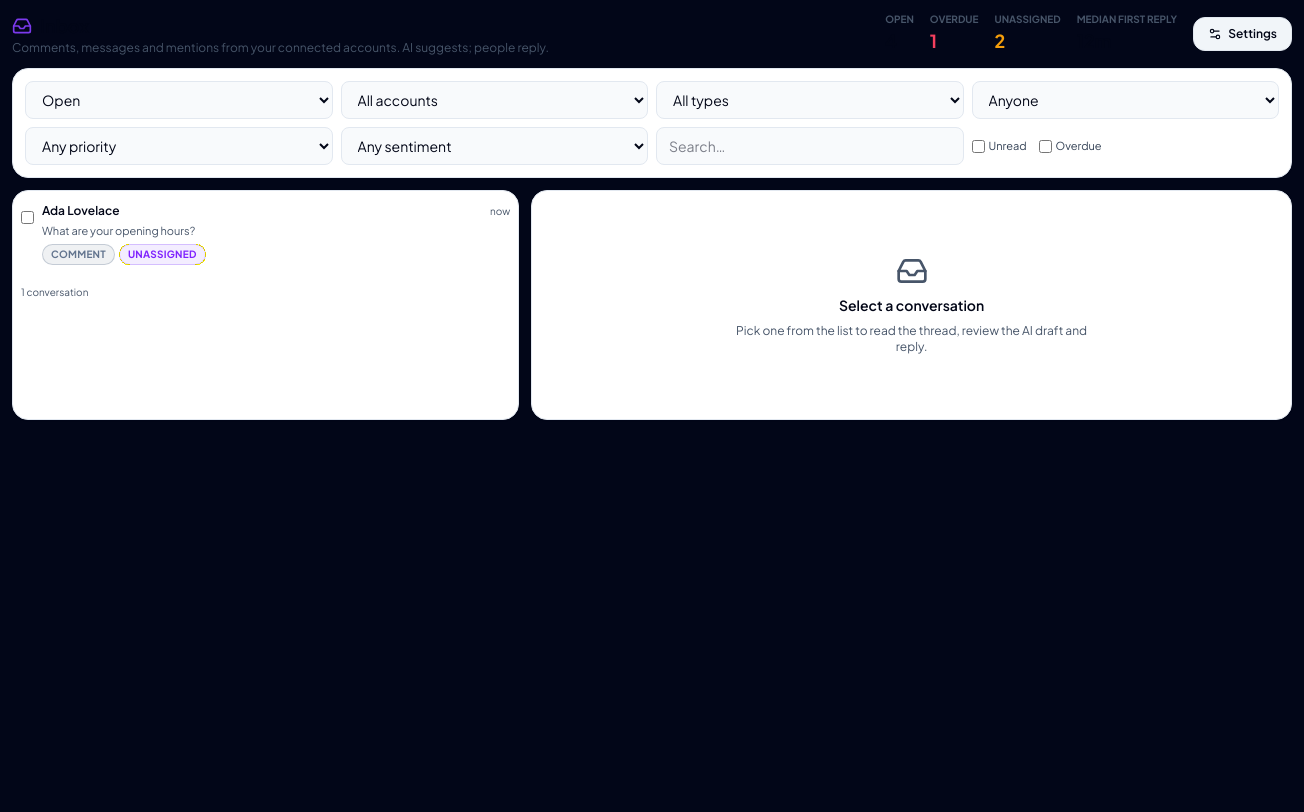
Test case: conversation view › warns when the messaging window is about to close
The image size is (1304, 812).
Click the button "Ada Lovelace".
click(81, 210)  # box [42, 199, 510, 268]
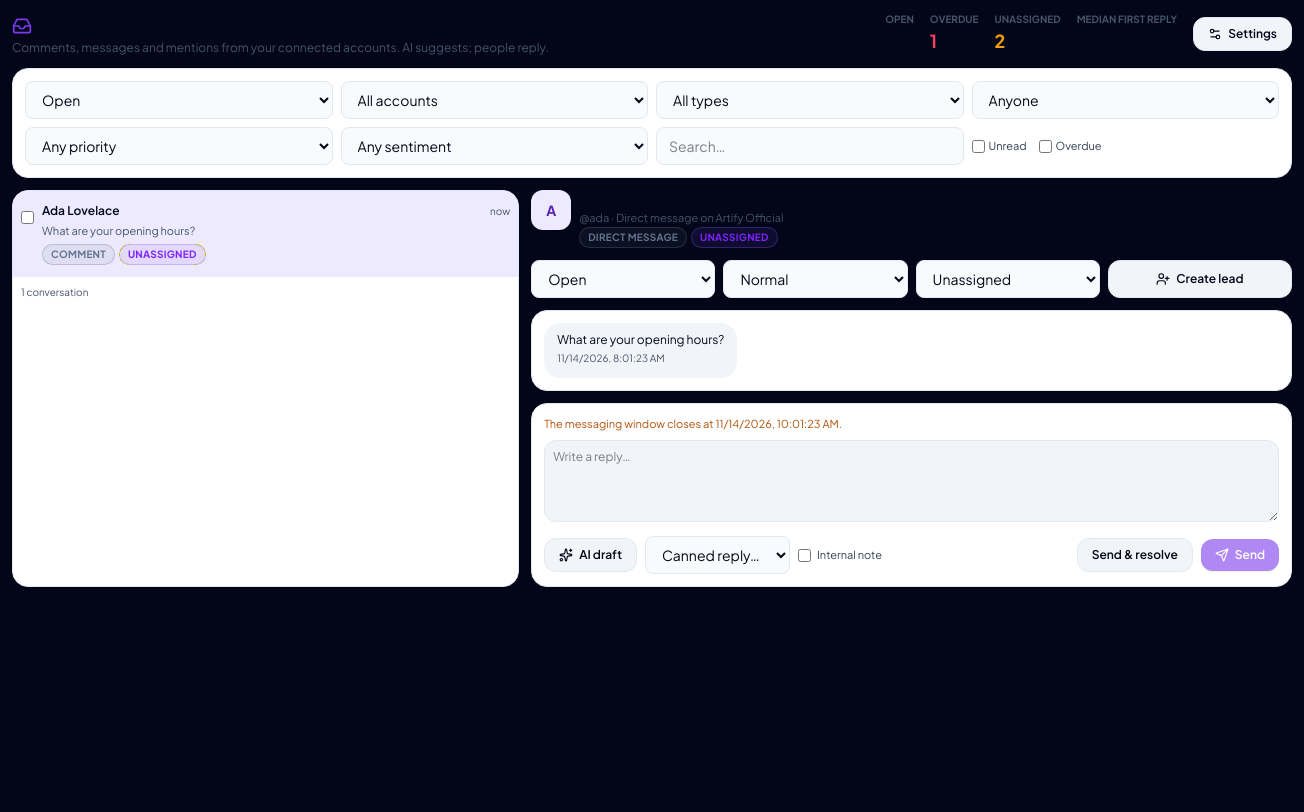
Now the list named "Conversation thread" is shown, box [544, 322, 737, 378]
Now the text "The messaging window closes at 11/14/2026, 10:01:23 AM." is shown, box [544, 417, 842, 430]
Type "ok" into the text box named "Reply text".
click(912, 481); type("ok")  # box [544, 440, 1279, 522]
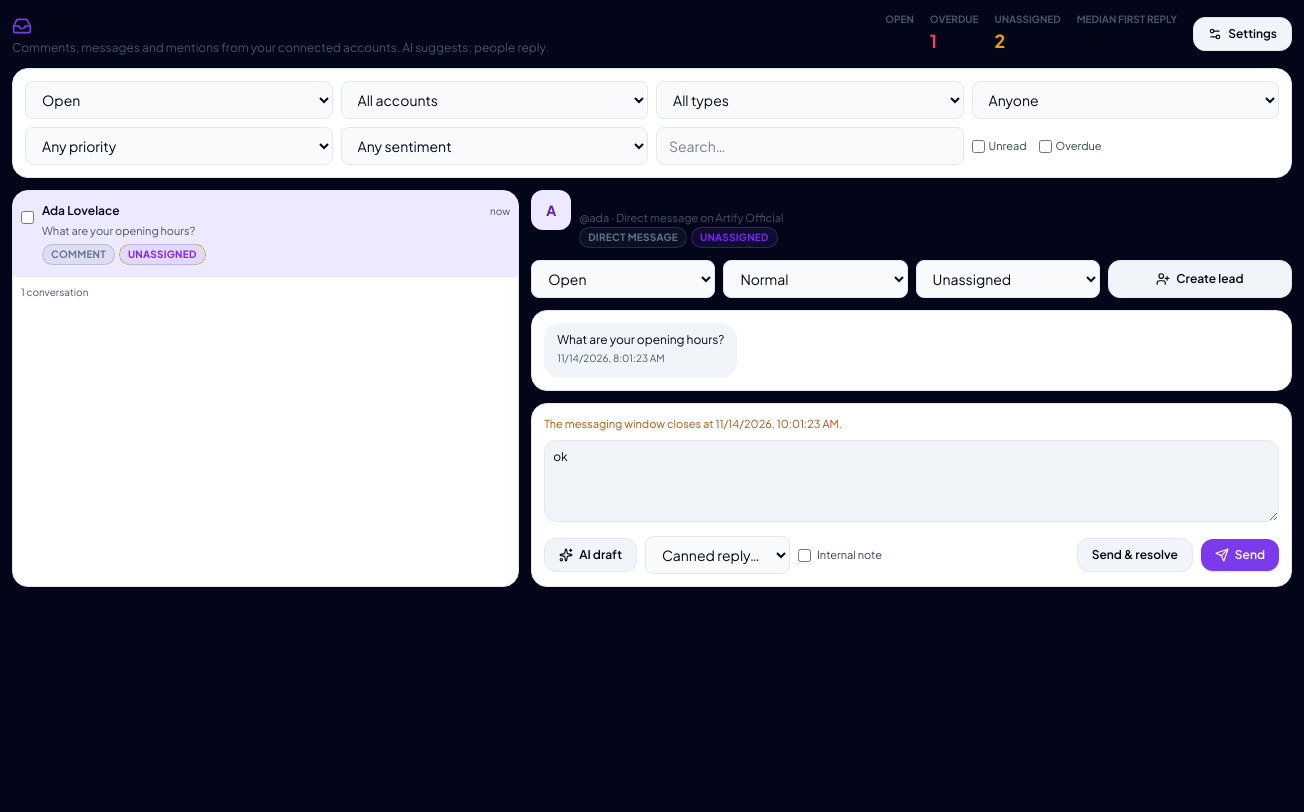
Now the button "Send" is enabled, box [1201, 539, 1279, 571]
